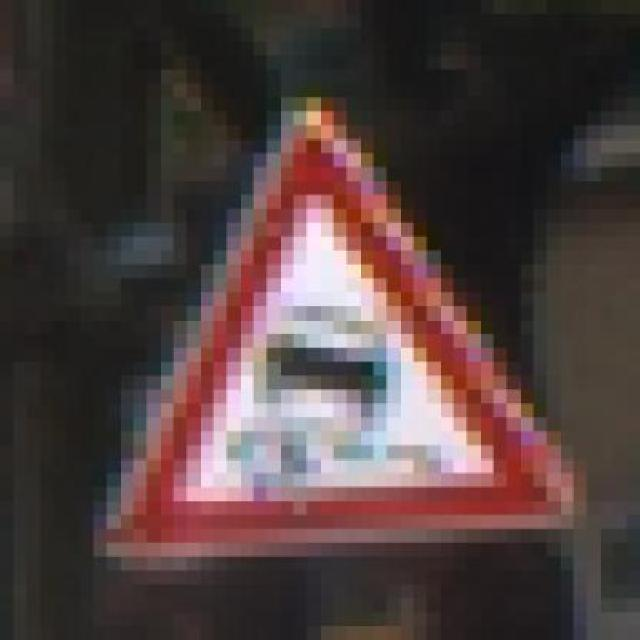Slippery Road Ahead: (75, 80, 583, 582)
